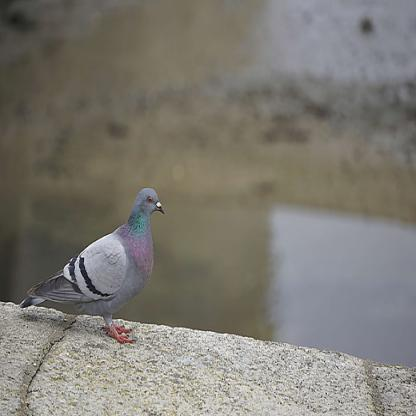Rock Pigeon: (18, 184, 167, 327)
